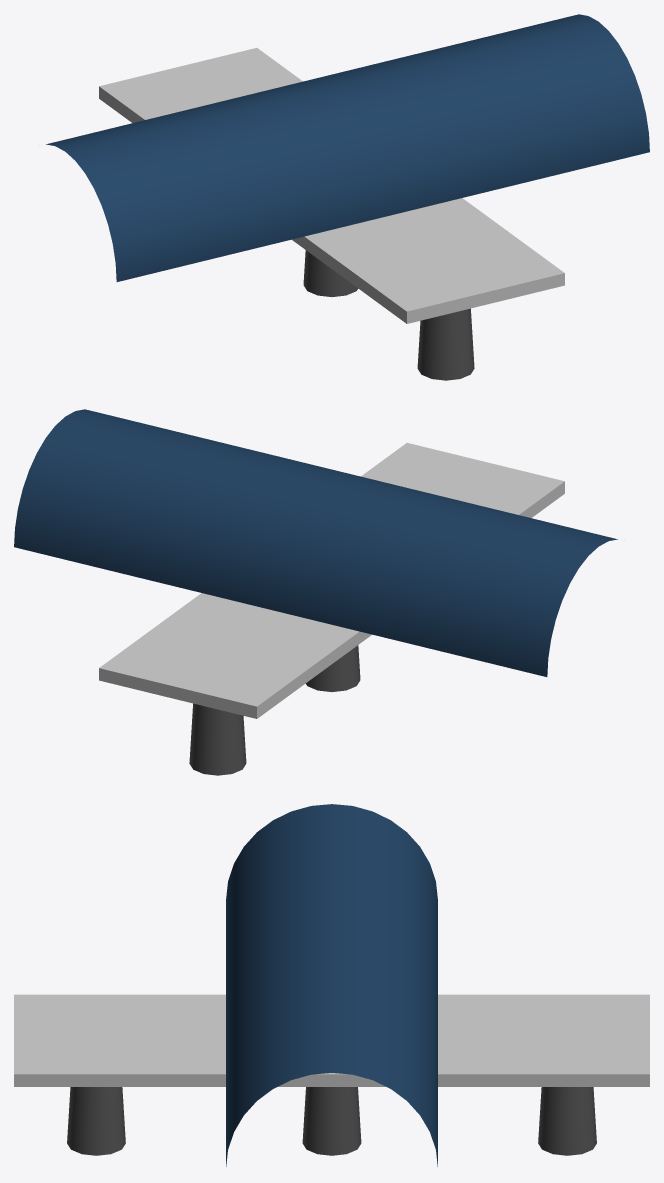
File: metro_station_elevated.glb
3 views of the same model, one above another, from view 1: azimuth 30°, elevation 25°; view 2: azimuth 150°, elevation 25°; view 3: azimuth 270°, elevation 25° (orthographic). The views are drawn at different scales.
Bounding box in the file's own units: 54 × 19.2 × 54.
